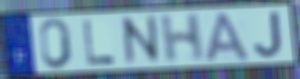0: (38, 17, 74, 70)
A: (204, 11, 252, 63)
H: (158, 12, 206, 66)
J: (252, 10, 284, 59)
L: (82, 19, 117, 66)
N: (119, 12, 164, 68)
